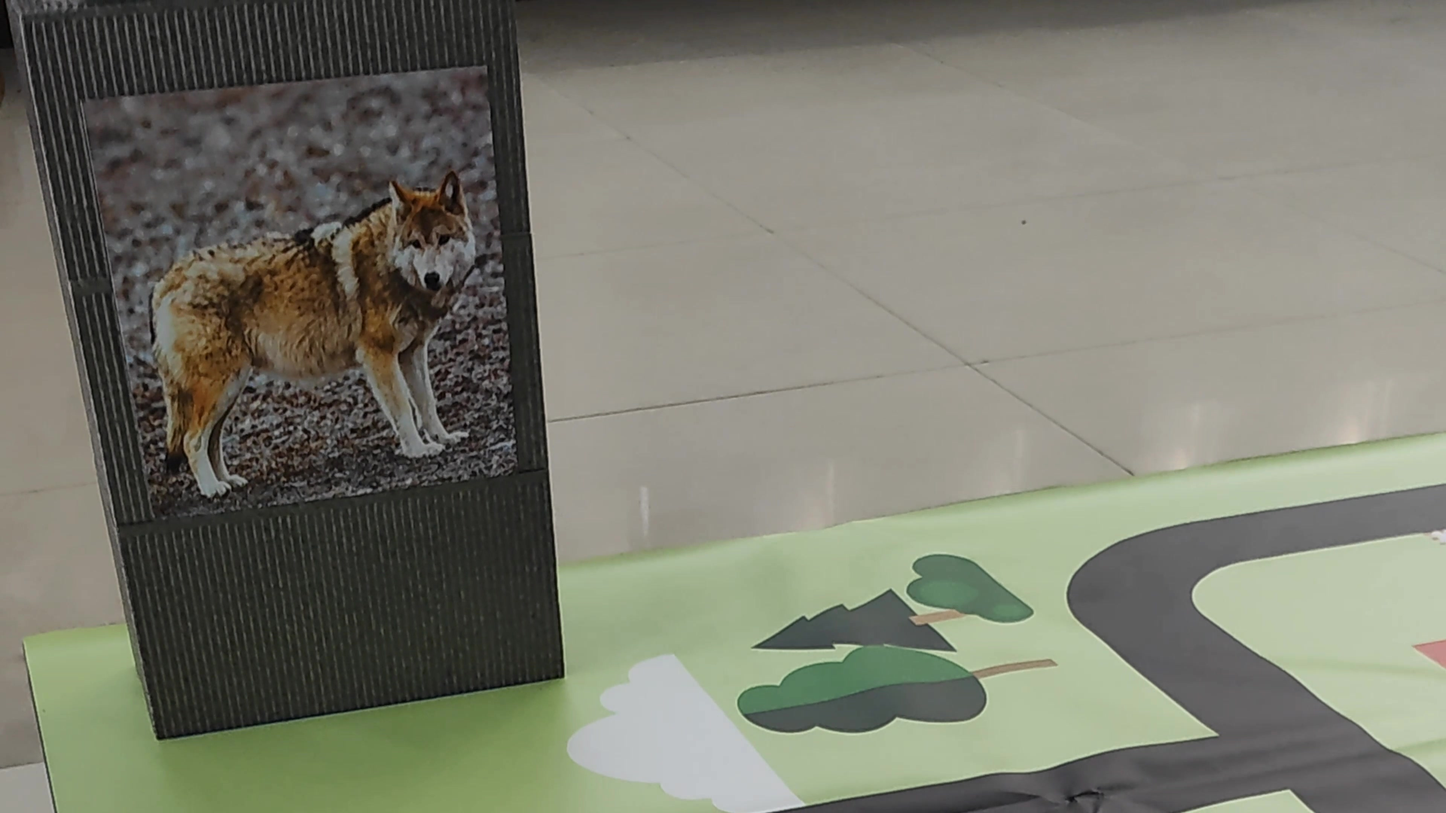wolf: (125, 160, 505, 488)
